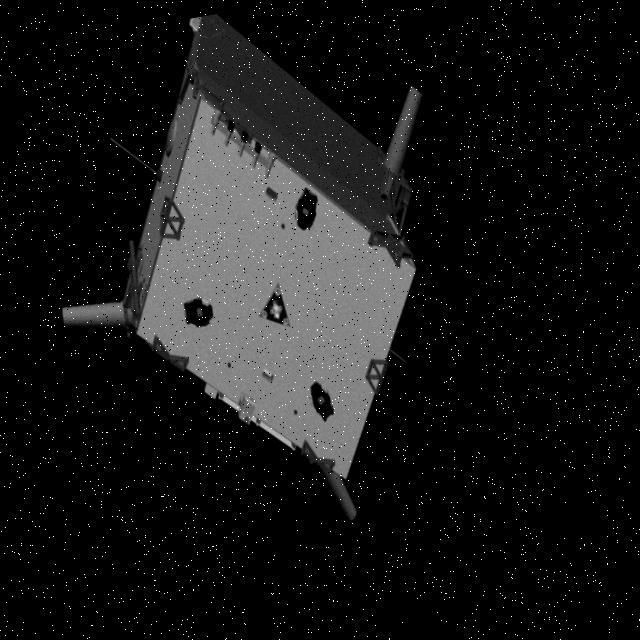medium_debris: (50, 8, 448, 524)
